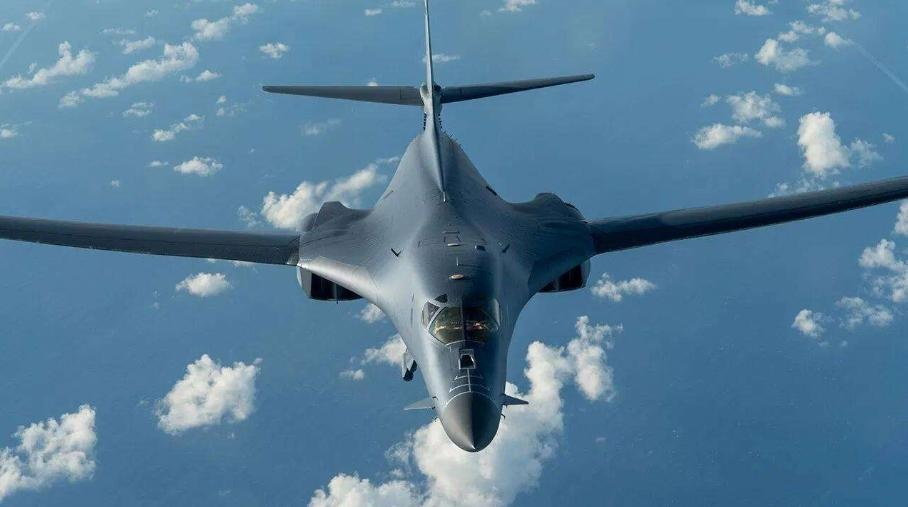airplane: (3, 13, 908, 455)
